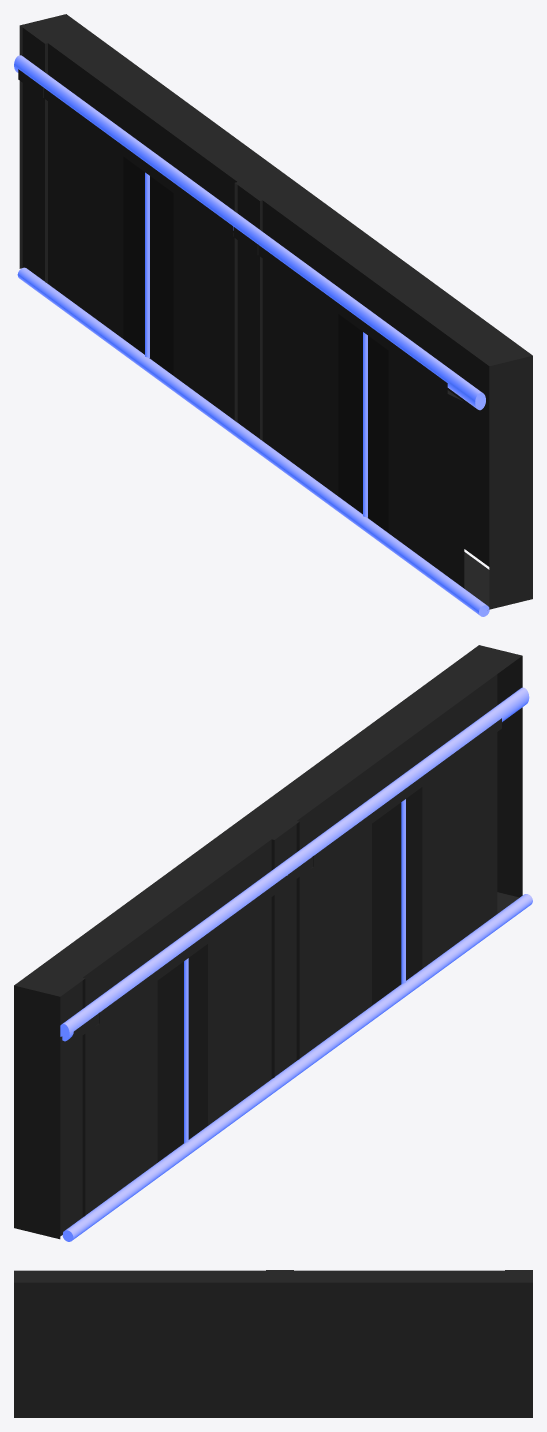
Rendered from wallclare.fbx.
3 views of the same model, one above another, from view 1: azimuth 30°, elevation 25°; view 2: azimuth 150°, elevation 25°; view 3: azimuth 270°, elevation 25° (orthographic). The views are drawn at different scales.
Visible parts, largest first — view 1: polySurface9, polySurface22, polySurface5, polySurface16; view 2: polySurface9, polySurface22, polySurface16, polySurface5; view 3: polySurface9, polySurface16, polySurface5.
Boxes of the visible parts, x1=… form: polySurface9: x1=18, y1=14, x2=532, y2=609; polySurface22: x1=14, y1=55, x2=489, y2=616; polySurface5: x1=234, y1=174, x2=489, y2=606; polySurface16: x1=19, y1=14, x2=88, y2=283; polySurface9: x1=14, y1=645, x2=522, y2=1236; polySurface22: x1=60, y1=687, x2=532, y2=1241; polySurface16: x1=17, y1=968, x2=99, y2=1239; polySurface5: x1=231, y1=813, x2=519, y2=1078; polySurface9: x1=14, y1=1270, x2=532, y2=1417; polySurface16: x1=505, y1=1270, x2=532, y2=1281; polySurface5: x1=266, y1=1270, x2=293, y2=1281.
Bounding box in the file's own units: 3.13 × 13.66 × 46.34.
